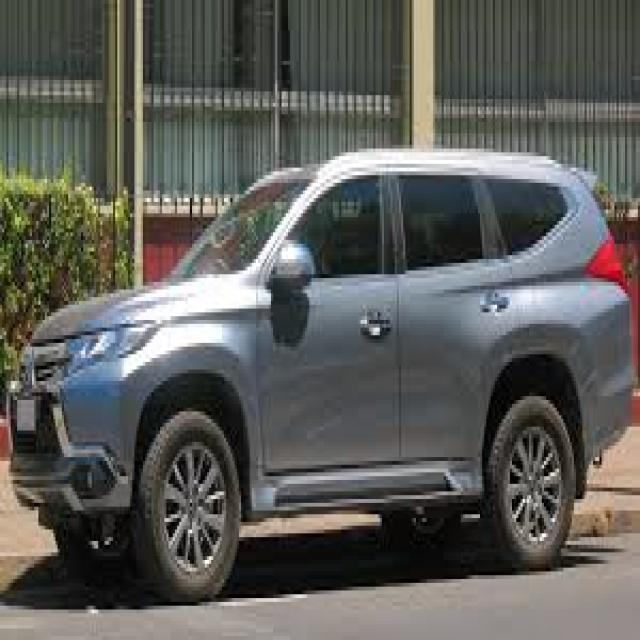light_vehicle: (7, 146, 639, 604)
